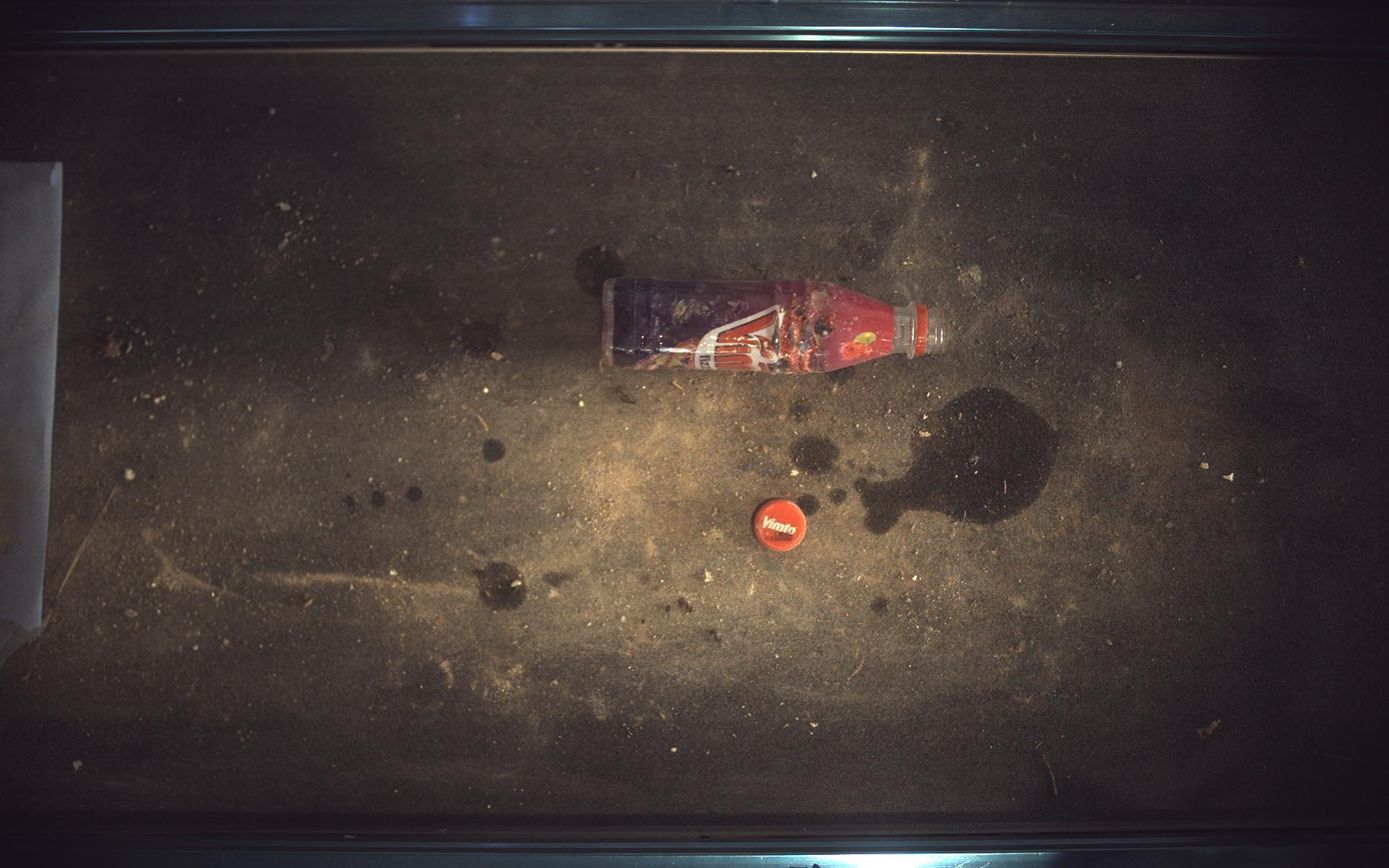general_w: (603, 277, 951, 373), (755, 499, 808, 552)
